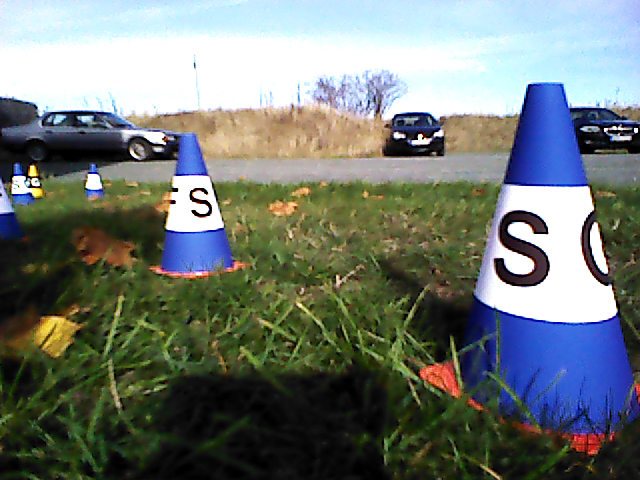bluecone: (457, 83, 640, 425), (160, 134, 233, 269)
